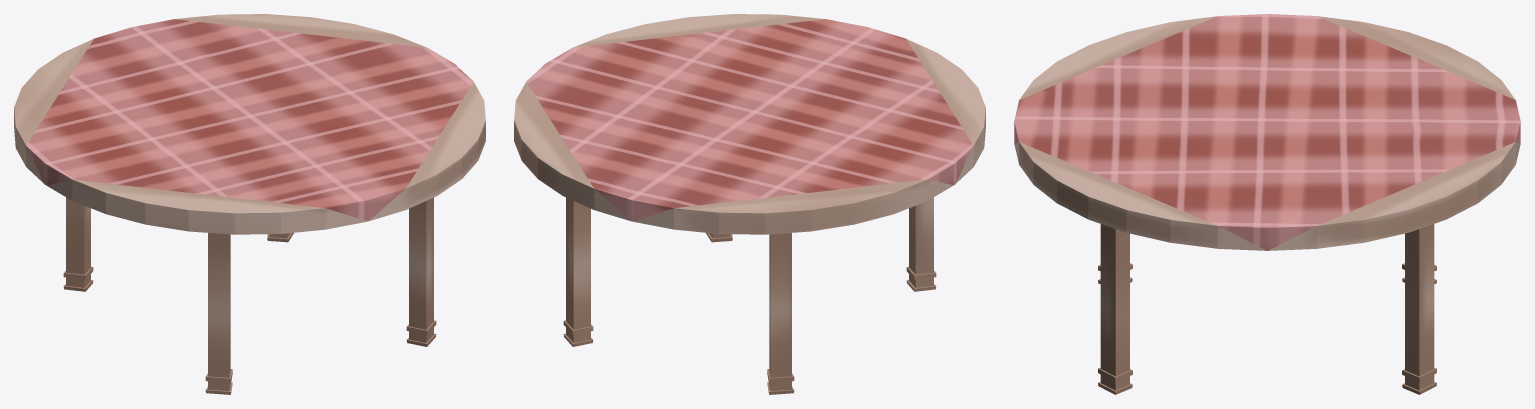
Rendered from KitchenTable.fbx.
The picture shows the model from 3 angles, left to right: view 1: azimuth 30°, elevation 25°; view 2: azimuth 150°, elevation 25°; view 3: azimuth 270°, elevation 25°; orthographic projection. The views are drawn at different scales.
Parts seen in each view (by area): view 1: KitchenTable; view 2: KitchenTable; view 3: KitchenTable.
Part boxes in pixels (x1,y1,x2,y2): KitchenTable: [14, 14, 485, 394]; KitchenTable: [514, 14, 985, 394]; KitchenTable: [1014, 14, 1520, 394].
Size of the model in its own units: 128 by 59.82 by 128.
1 material, 1 textured.
